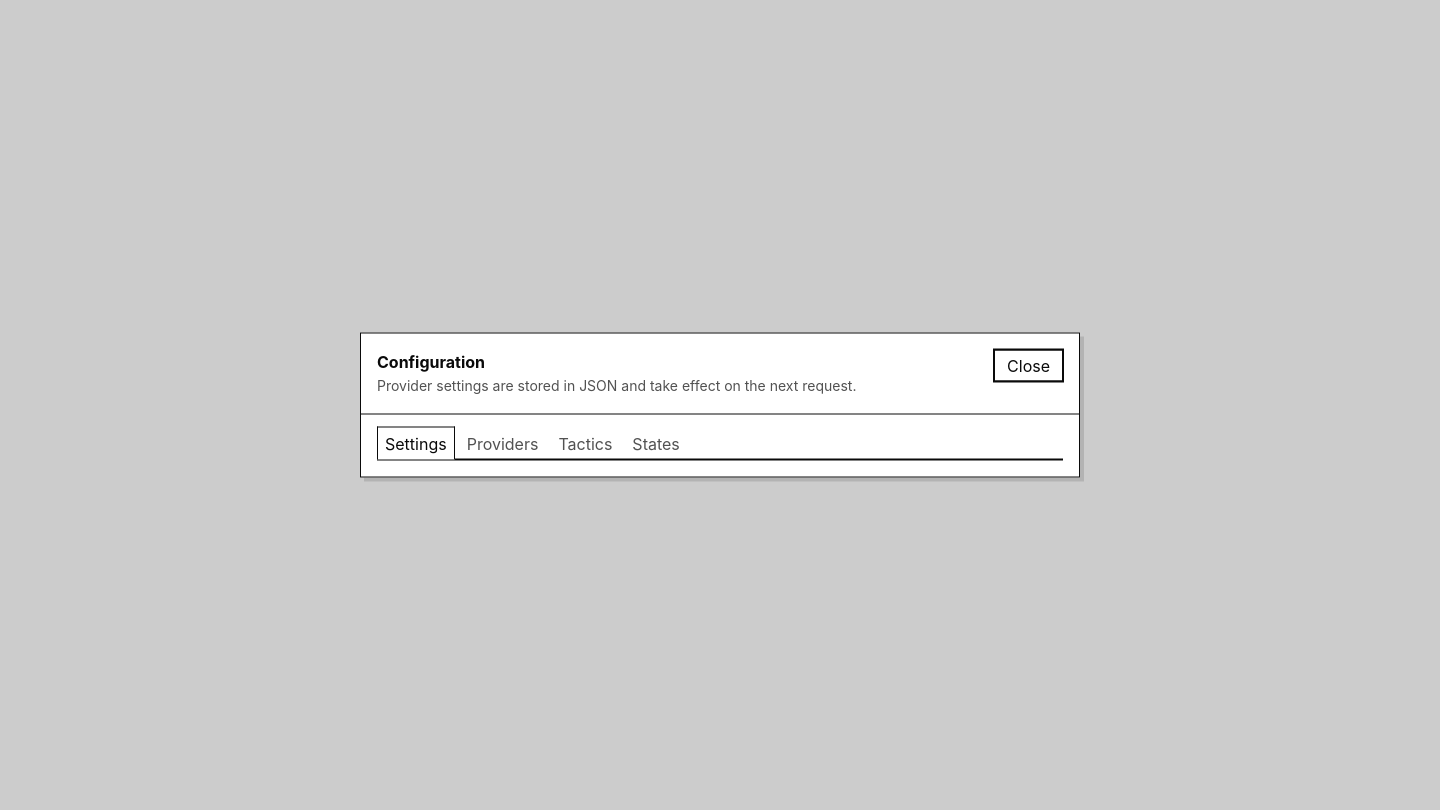
web components › renders state configuration error, saving state, and optional descriptions
This screenshot has width=1440, height=810.
Click the tab "States": (656, 443) [624,426,688,460]
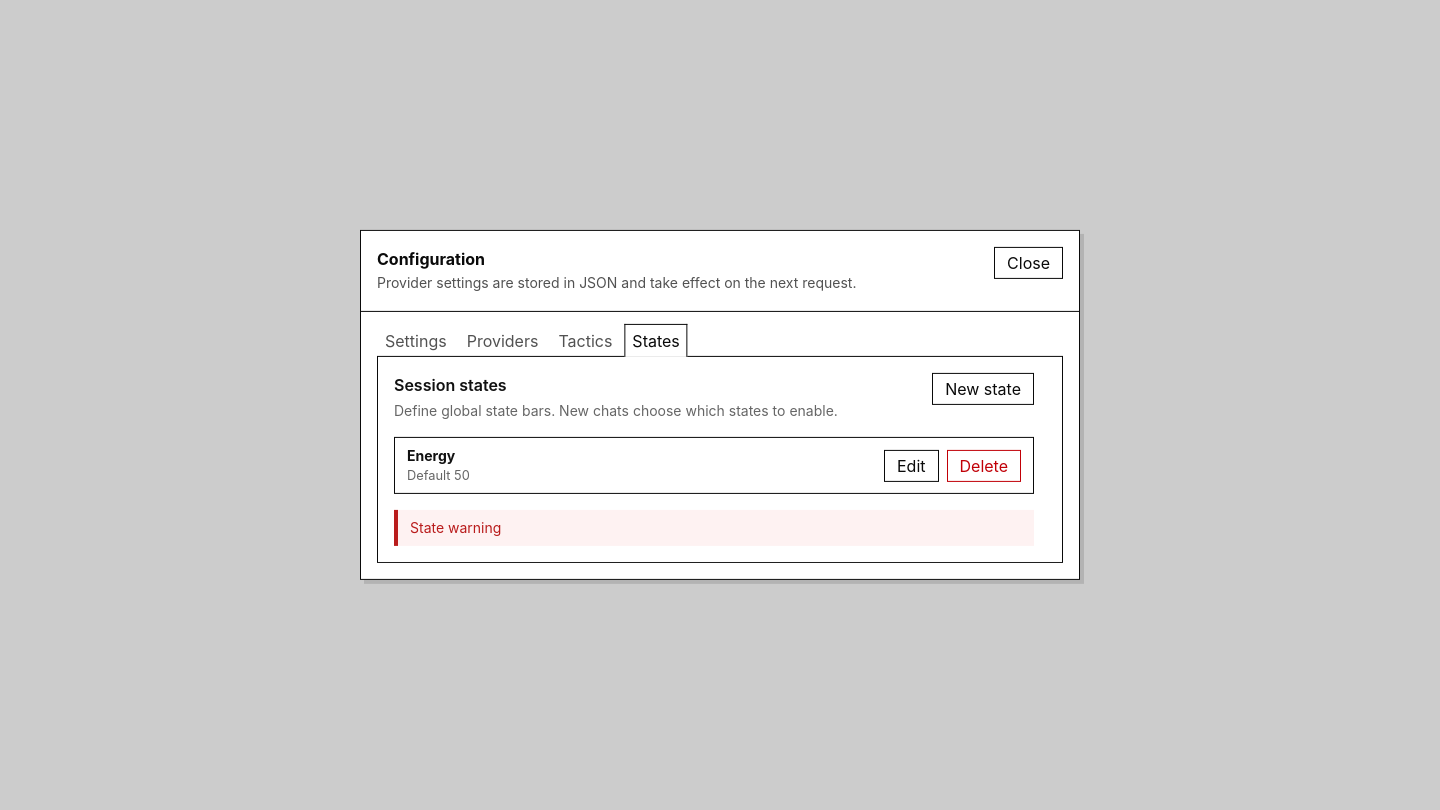
Expected: the text "State warning" is shown, [394,510,1034,546]
Expected: the text "Default 50" is shown, [407,468,470,483]
Click the button "Edit": (911, 466) [884,450,938,482]
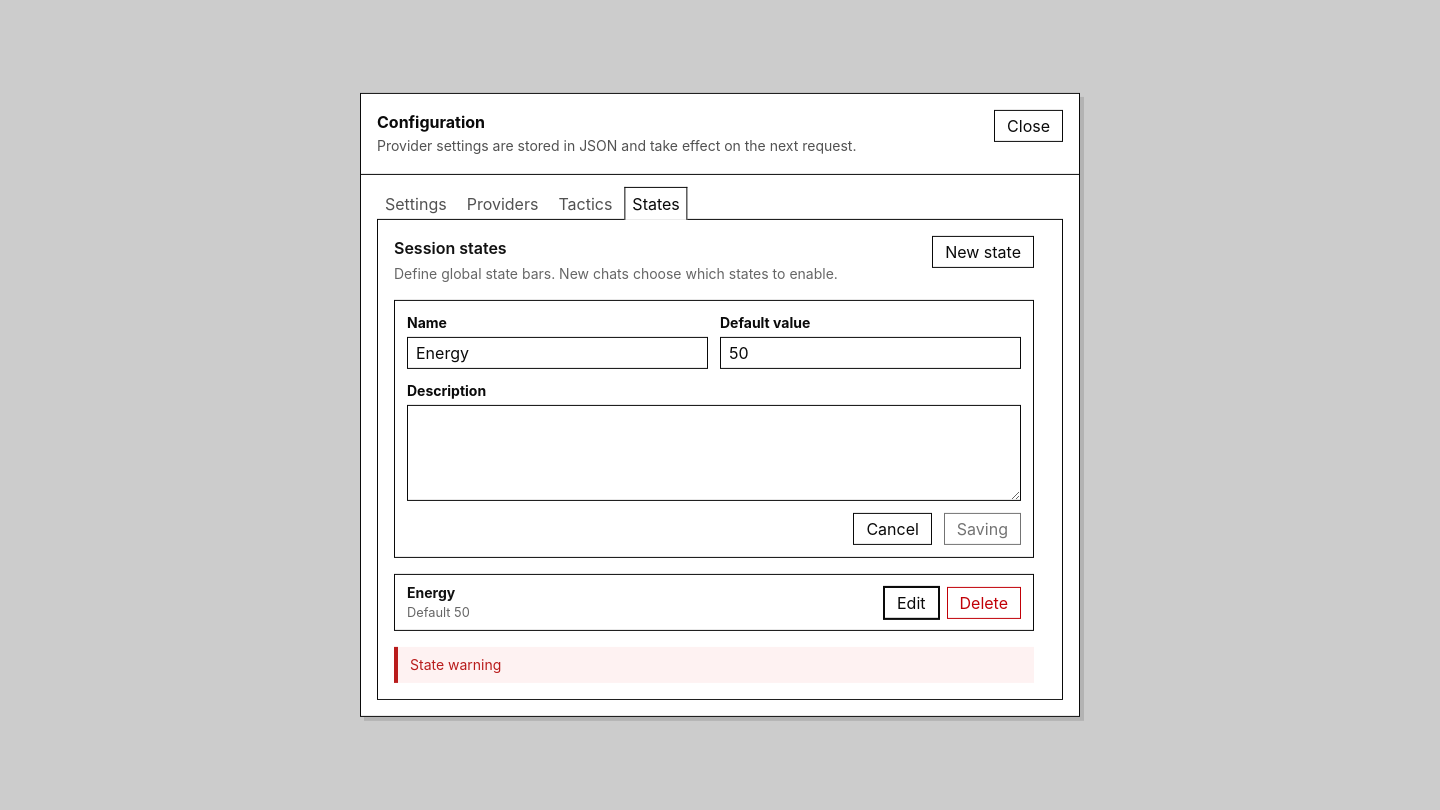
Expected: the button "Saving" is disabled, [944,513,1021,545]
